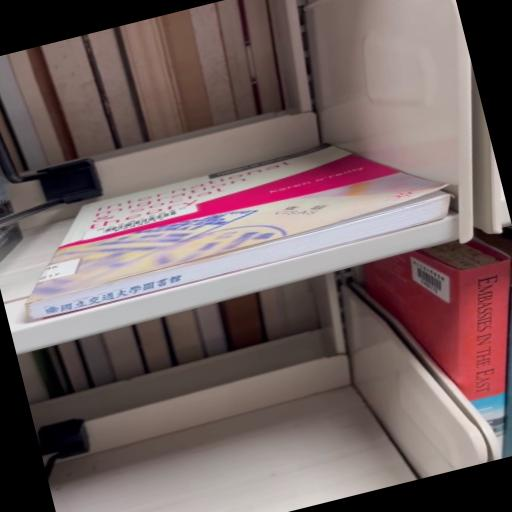flat: (27, 146, 449, 320)
